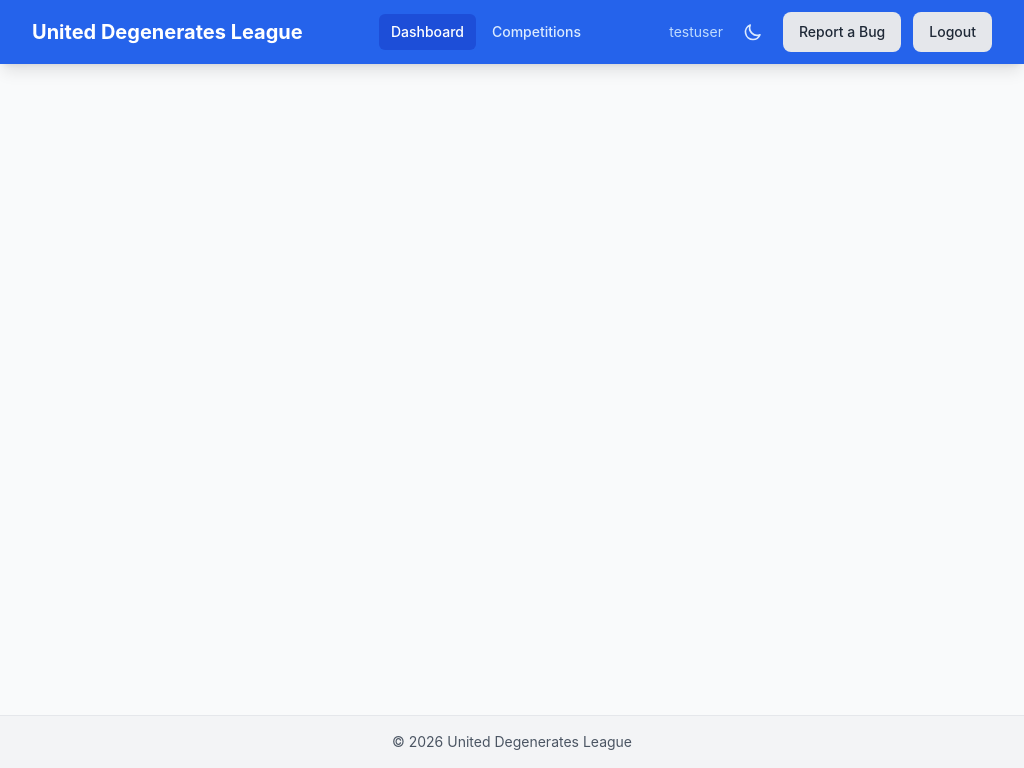
Test: Layout — bug report modal › closes the modal when Cancel is clicked inside the modal
The image size is (1024, 768).
// Open the modal
Click the button "Report a Bug".
click(842, 32)  # box [783, 12, 901, 52]
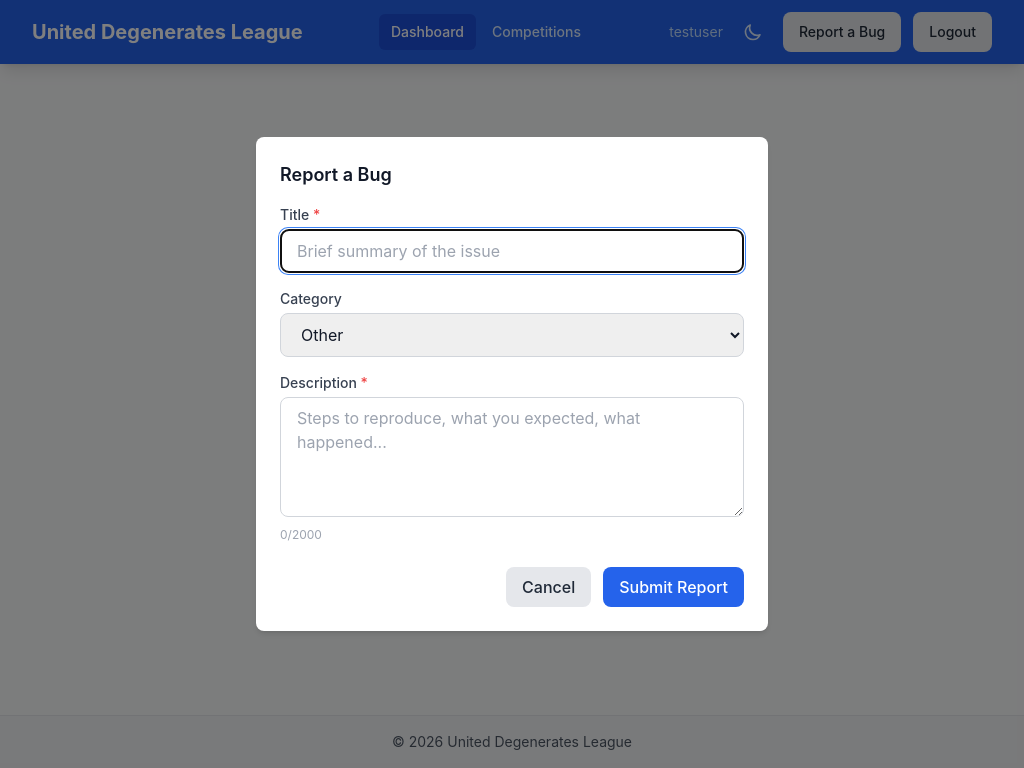
expect the field labelled "Title *" is shown: met, box [280, 229, 744, 273]
// Cancel button lives inside the modal — clicking it calls onClose
Click the button "Cancel".
click(549, 587)  # box [506, 567, 591, 607]
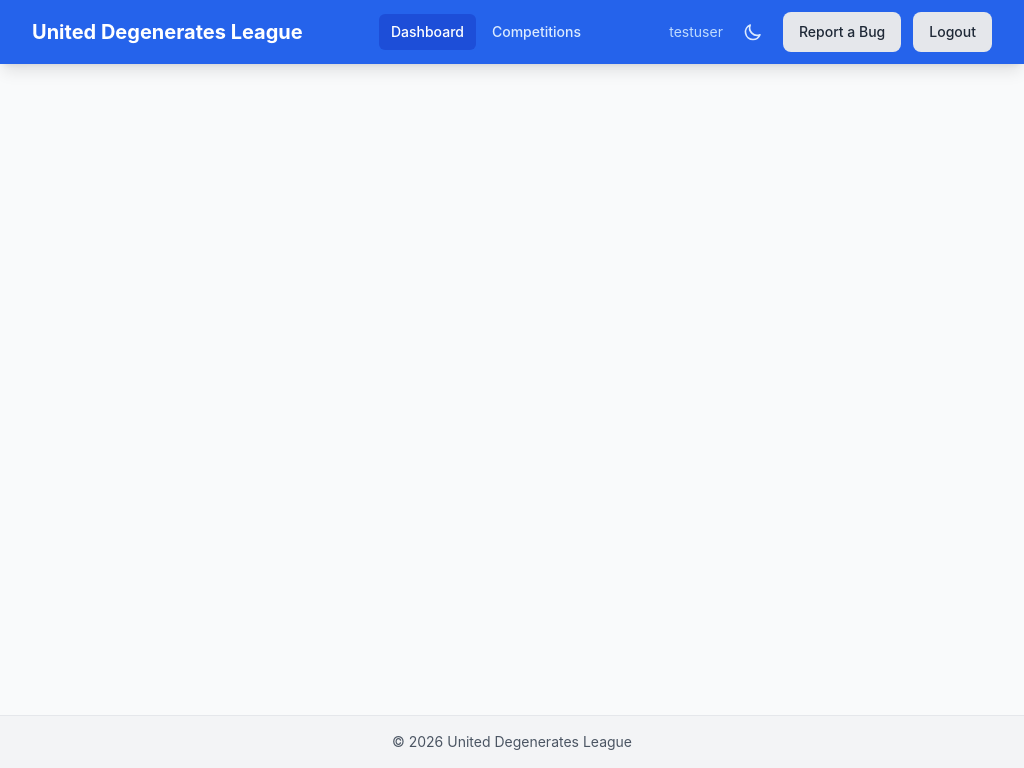
expect the label labelled "Title" is gone: met
